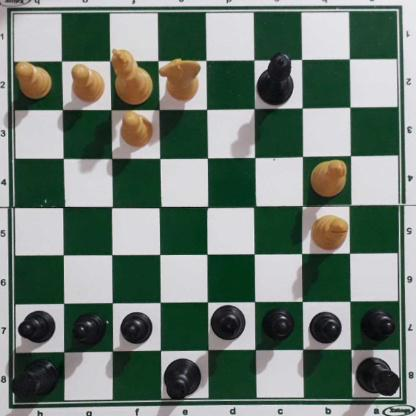black-bishop: (210, 305, 247, 341)
black-king: (162, 358, 203, 402)
black-pawn: (20, 311, 56, 347), (260, 307, 295, 344), (121, 313, 153, 348), (362, 312, 396, 344), (73, 315, 105, 349), (311, 312, 343, 346)
black-queen: (257, 53, 295, 108)
black-rook: (355, 358, 403, 400), (9, 361, 58, 401)
white-bishop: (310, 159, 348, 197), (311, 215, 350, 252)
white-king: (110, 48, 153, 106)
white-knight: (158, 58, 202, 103)
white-pawn: (70, 64, 106, 105), (16, 64, 53, 101), (120, 111, 155, 148)
